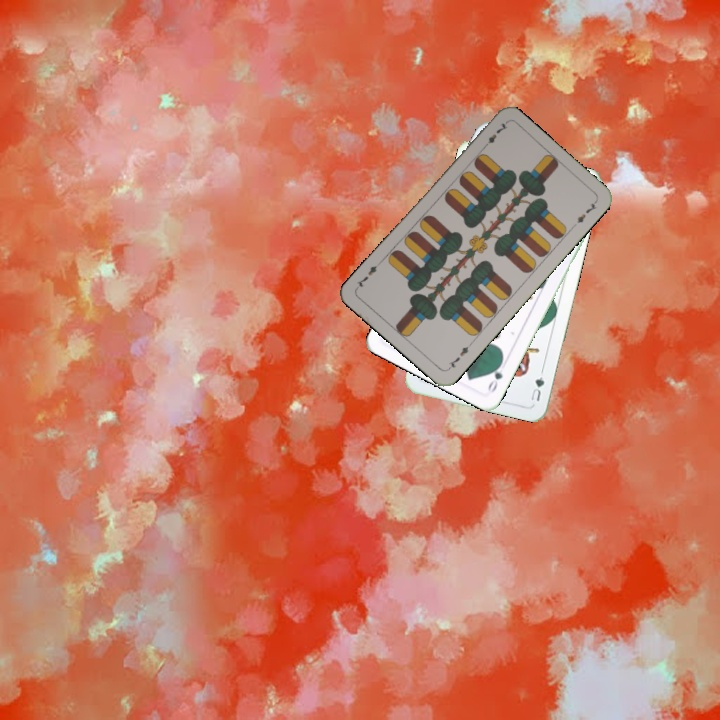E7: (478, 118, 510, 152), (444, 339, 474, 373)
GO: (484, 356, 505, 395)
GU: (527, 373, 547, 404)
